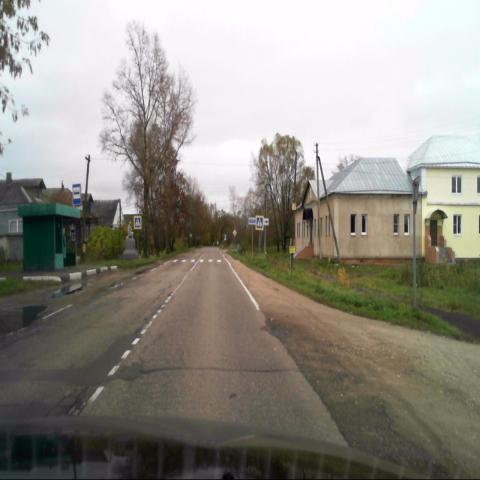5_16: (73, 185, 81, 206)
5_19_1: (133, 216, 142, 230), (256, 215, 264, 230)
